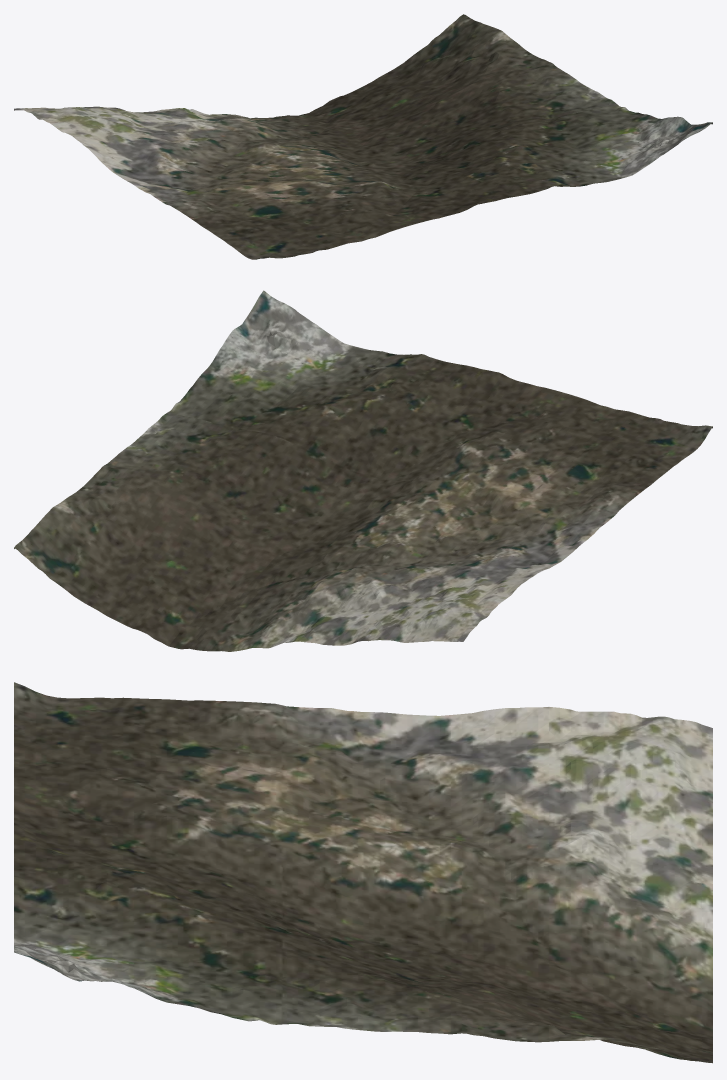
3 renders of one model, top to bottom at view 1: azimuth 30°, elevation 25°; view 2: azimuth 150°, elevation 25°; view 3: azimuth 270°, elevation 25°, orthographic. The views are drawn at different scales.
Size of the model in its own units: 250 by 73.25 by 241.
Materials: 1 (1 with a texture image).
